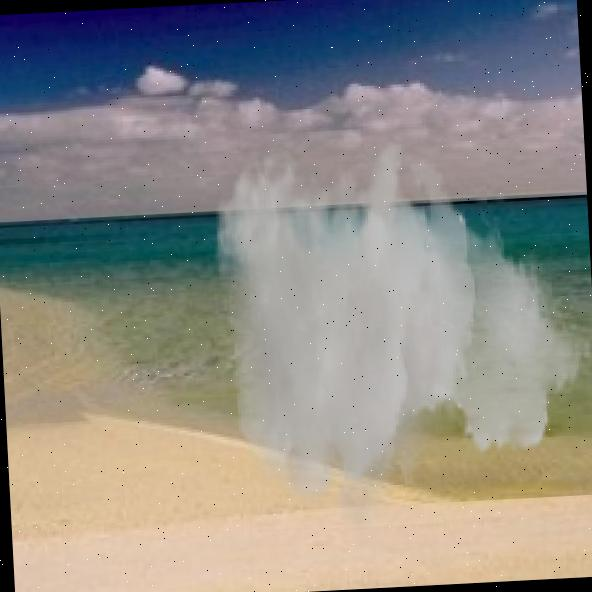smoke: (210, 129, 592, 554)
